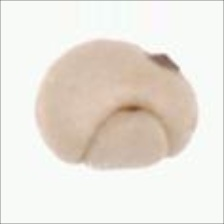L5: (76, 103, 172, 172), (128, 40, 183, 76)
L6: (33, 36, 201, 170)
